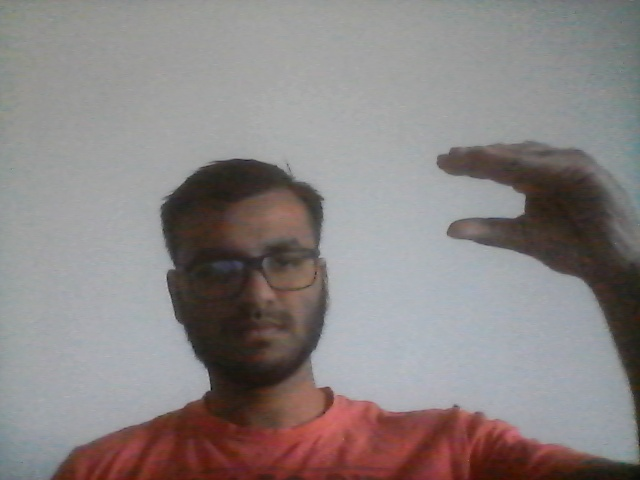No: (433, 139, 640, 274)
